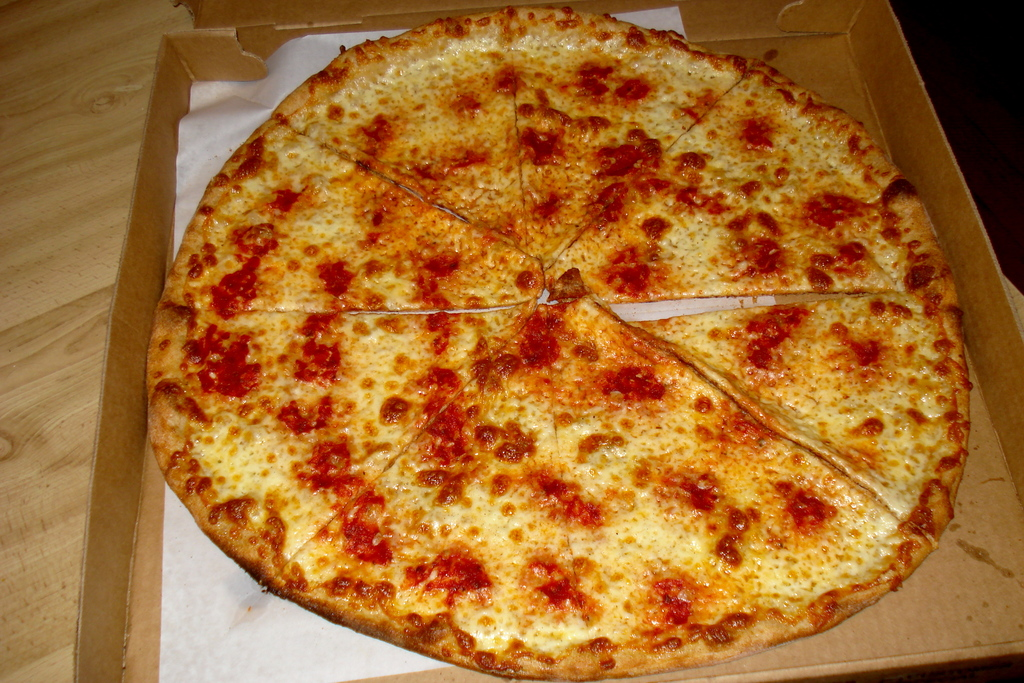Pizza: (137, 4, 961, 678)
